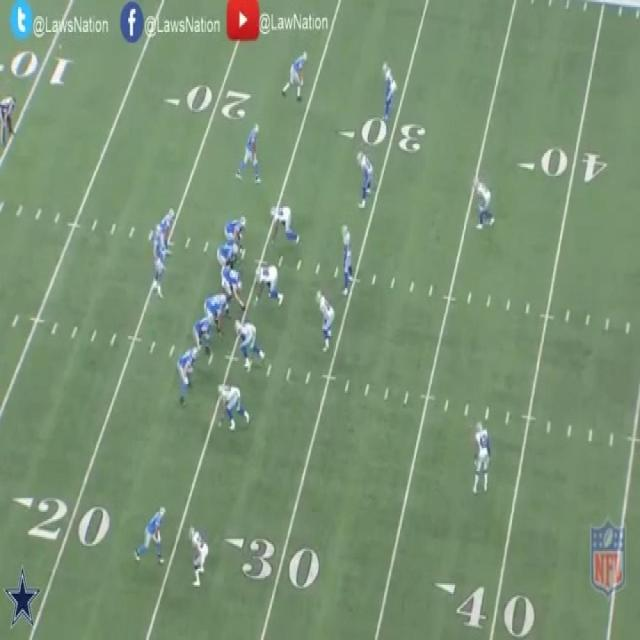center: (222, 266, 248, 308)
db: (472, 420, 490, 494), (380, 62, 397, 120), (474, 180, 492, 230)
lb: (339, 223, 355, 291), (356, 150, 372, 209), (318, 290, 334, 345)
qb: (150, 224, 164, 294)
